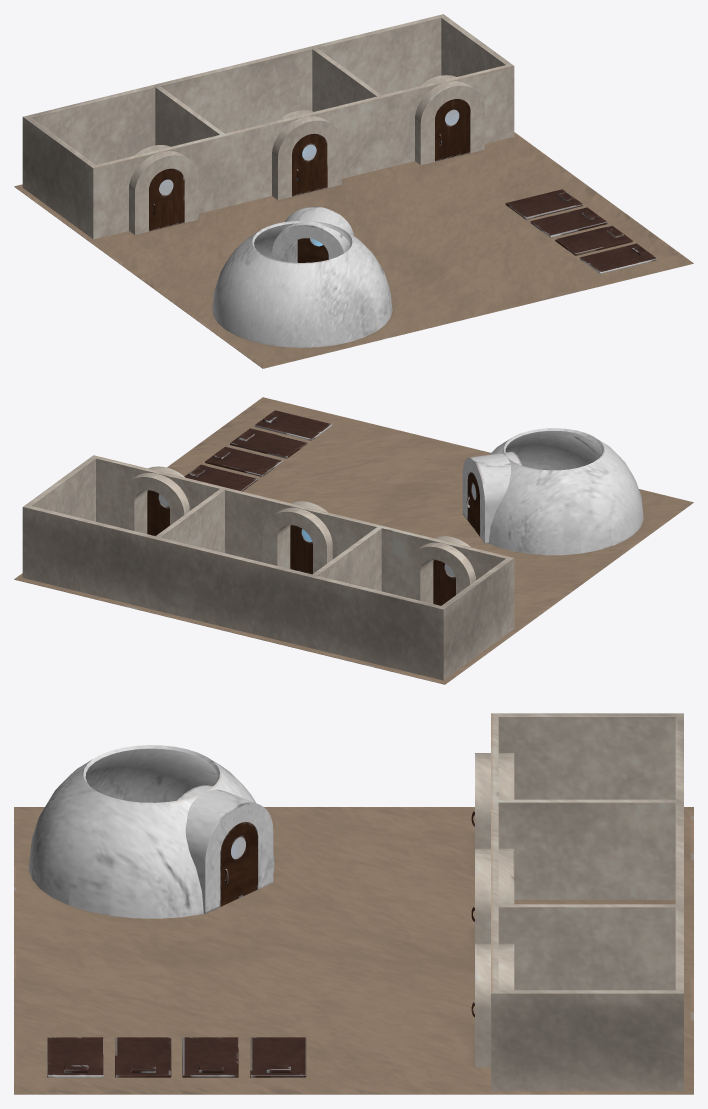
The model's file is Jjimjilbang.fbx.
The picture shows the model from 3 angles, top to bottom: view 1: azimuth 30°, elevation 25°; view 2: azimuth 150°, elevation 25°; view 3: azimuth 270°, elevation 25°; orthographic projection. The views are drawn at different scales.
Visible parts, largest first — view 1: Cube.008; view 2: Cube.008; view 3: Cube.008.
Part boxes in pixels (bbox=[...]): Cube.008: bbox=[14, 14, 693, 368]; Cube.008: bbox=[14, 397, 693, 684]; Cube.008: bbox=[14, 713, 693, 1094].
Size of the model in its own units: 1600 by 253 by 1600.
